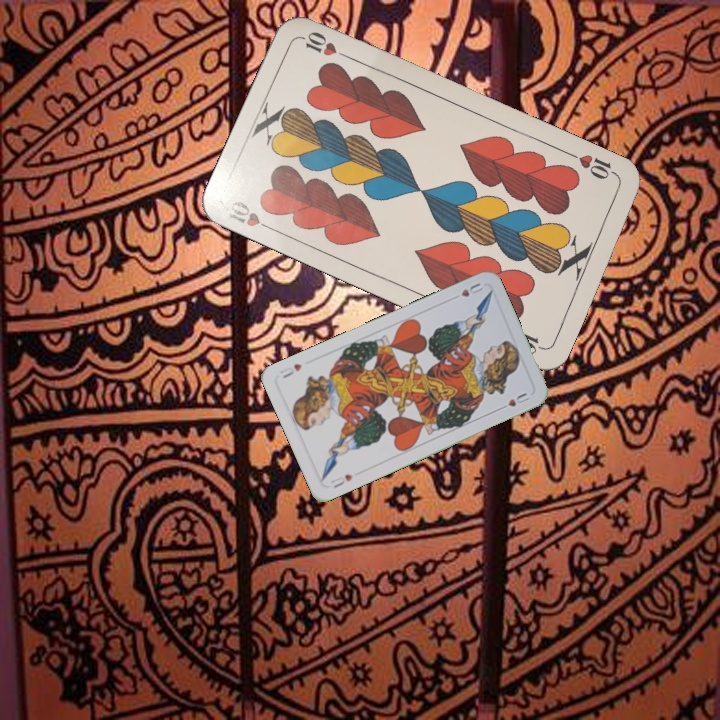H10: (224, 196, 279, 235), (565, 148, 621, 182)
HU: (457, 278, 486, 300), (327, 470, 356, 491)
